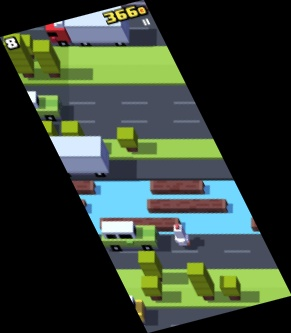car: (100, 220, 159, 250), (14, 91, 62, 119), (109, 296, 146, 324)
duck: (172, 223, 190, 247)
log: (147, 198, 229, 214), (150, 180, 205, 195), (67, 182, 96, 194), (251, 217, 275, 231), (74, 201, 88, 211)
tree: (6, 34, 36, 77), (33, 39, 62, 80), (187, 263, 215, 299), (138, 251, 164, 281), (62, 122, 86, 150), (38, 121, 60, 151), (115, 127, 138, 151), (220, 275, 241, 301), (141, 276, 162, 301), (14, 35, 34, 56)
truck: (45, 5, 129, 46), (33, 135, 111, 175)
water: (66, 178, 266, 235)
